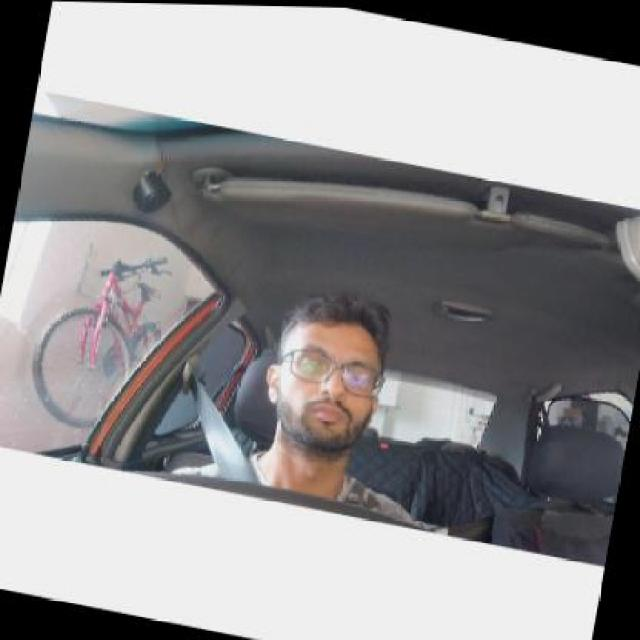person: (267, 298, 387, 450)
